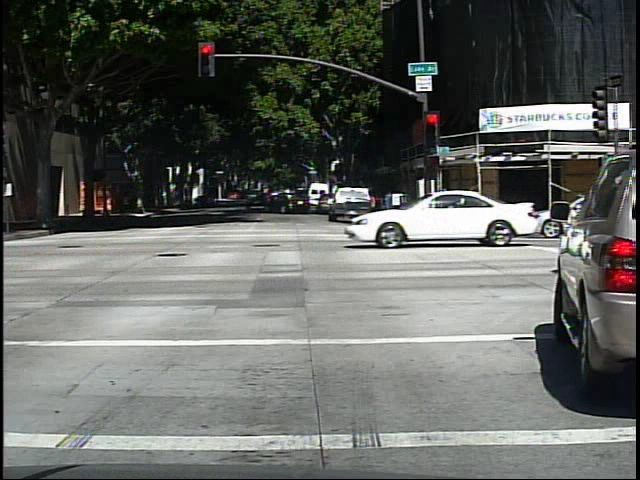person: (79, 186, 95, 220)
